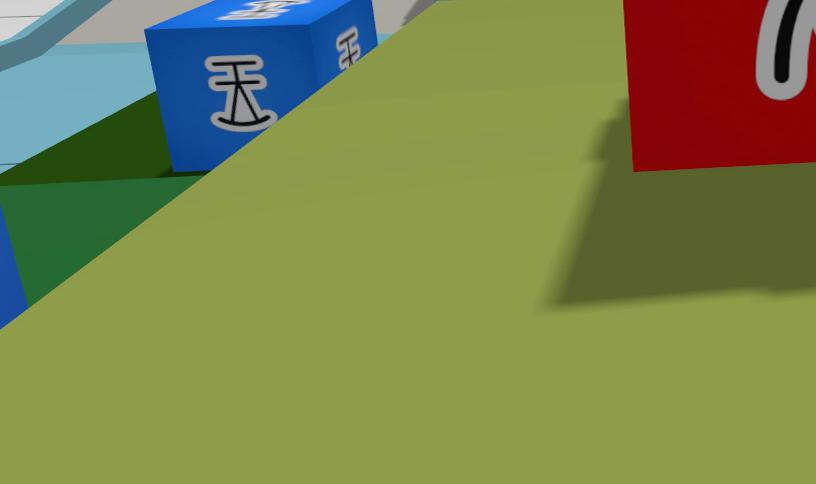KFS_FAKE: (624, 0, 816, 170), (755, 0, 816, 100)
KFS_REAL: (146, 0, 376, 171), (206, 55, 276, 132), (217, 0, 309, 18), (336, 26, 361, 70)
